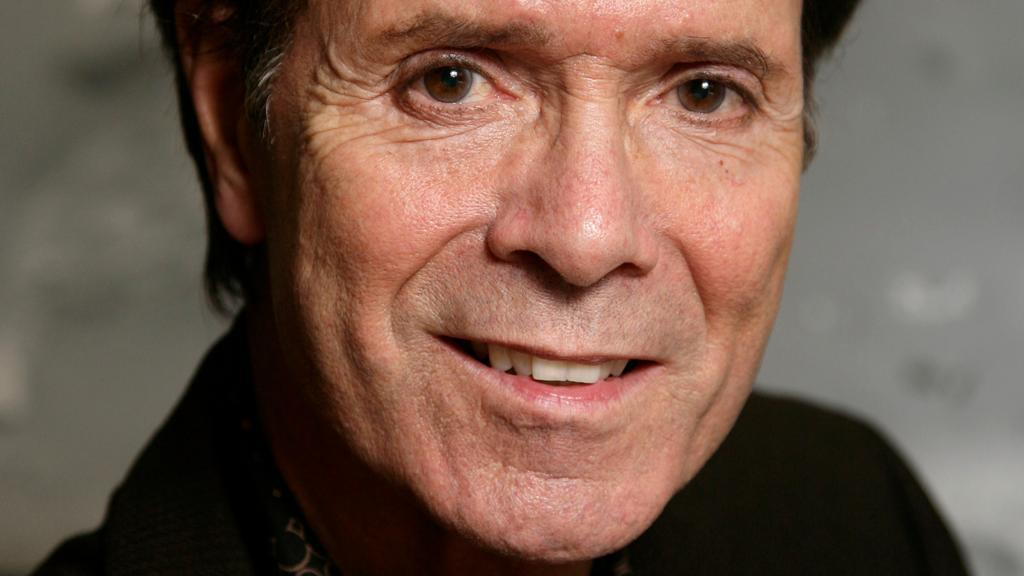face: (301, 3, 793, 545)
